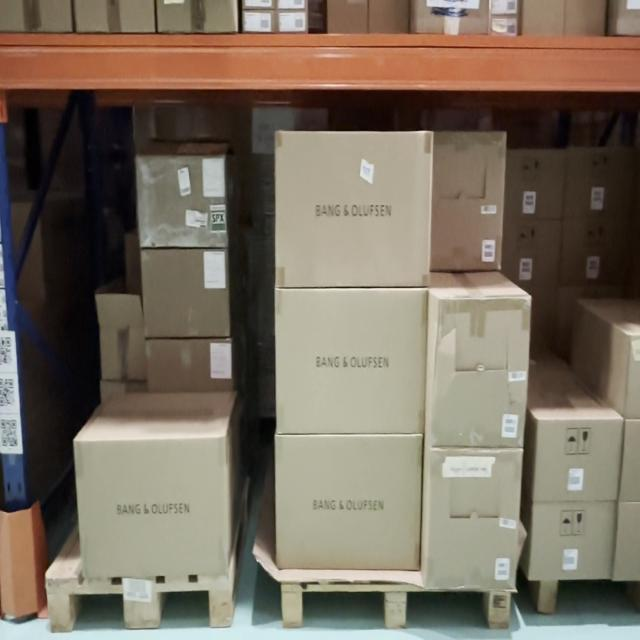box: (276, 131, 428, 286), (278, 290, 426, 432), (83, 439, 225, 577), (275, 436, 419, 571), (434, 299, 522, 446), (424, 452, 517, 583), (434, 135, 501, 267), (141, 159, 227, 245), (148, 252, 226, 336), (530, 504, 612, 578), (540, 421, 616, 498), (566, 148, 637, 213), (560, 216, 633, 279), (503, 220, 560, 289), (503, 151, 562, 217), (146, 344, 232, 388), (102, 324, 144, 375), (613, 503, 640, 580), (620, 420, 640, 502), (626, 333, 640, 420)
